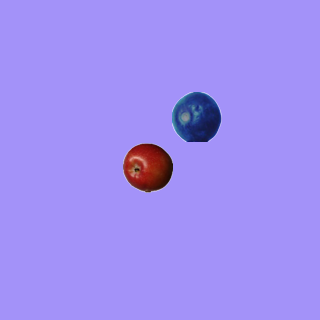Apple Braeburn: (122, 142, 172, 192)
Huckleberry: (171, 91, 221, 141)
